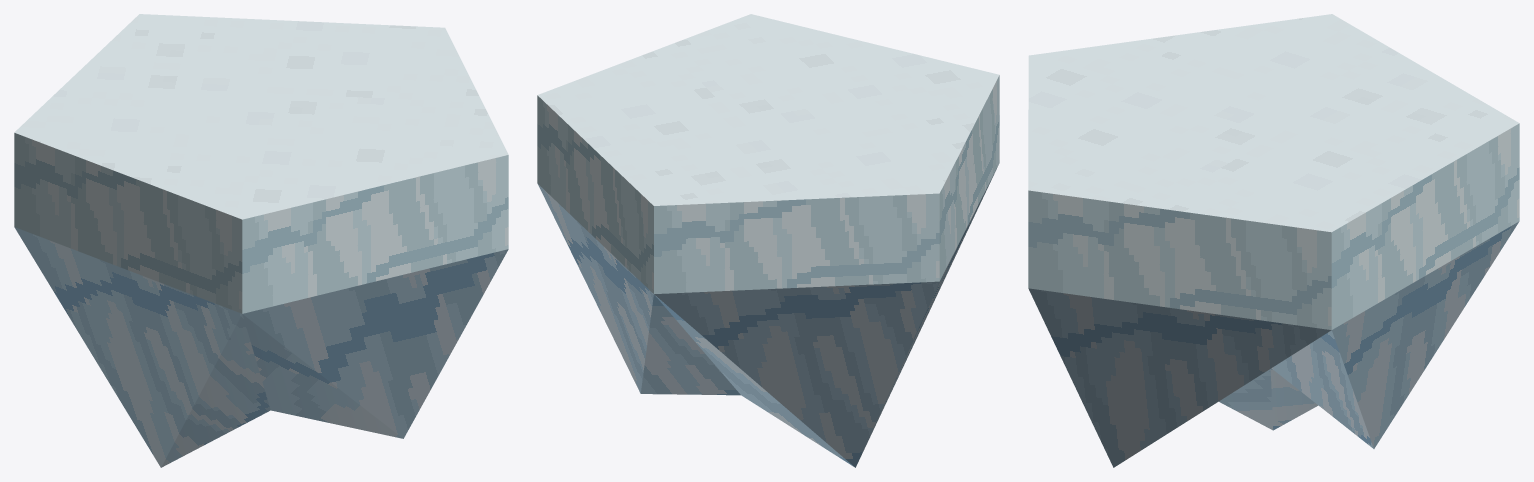
File: 03ae_Big_Iceberg.glb
3 views of the same model, side by side, from view 1: azimuth 30°, elevation 25°; view 2: azimuth 150°, elevation 25°; view 3: azimuth 270°, elevation 25° (orthographic). The views are drawn at different scales.
Visible parts, largest first — view 1: part_0; view 2: part_0; view 3: part_0.
Boxes of the visible parts, x1=… form: part_0: x1=14, y1=14, x2=508, y2=467; part_0: x1=537, y1=14, x2=999, y2=467; part_0: x1=1028, y1=14, x2=1519, y2=467.
Bounding box in the file's own units: 142 × 108 × 135.
1 material, 1 textured.
